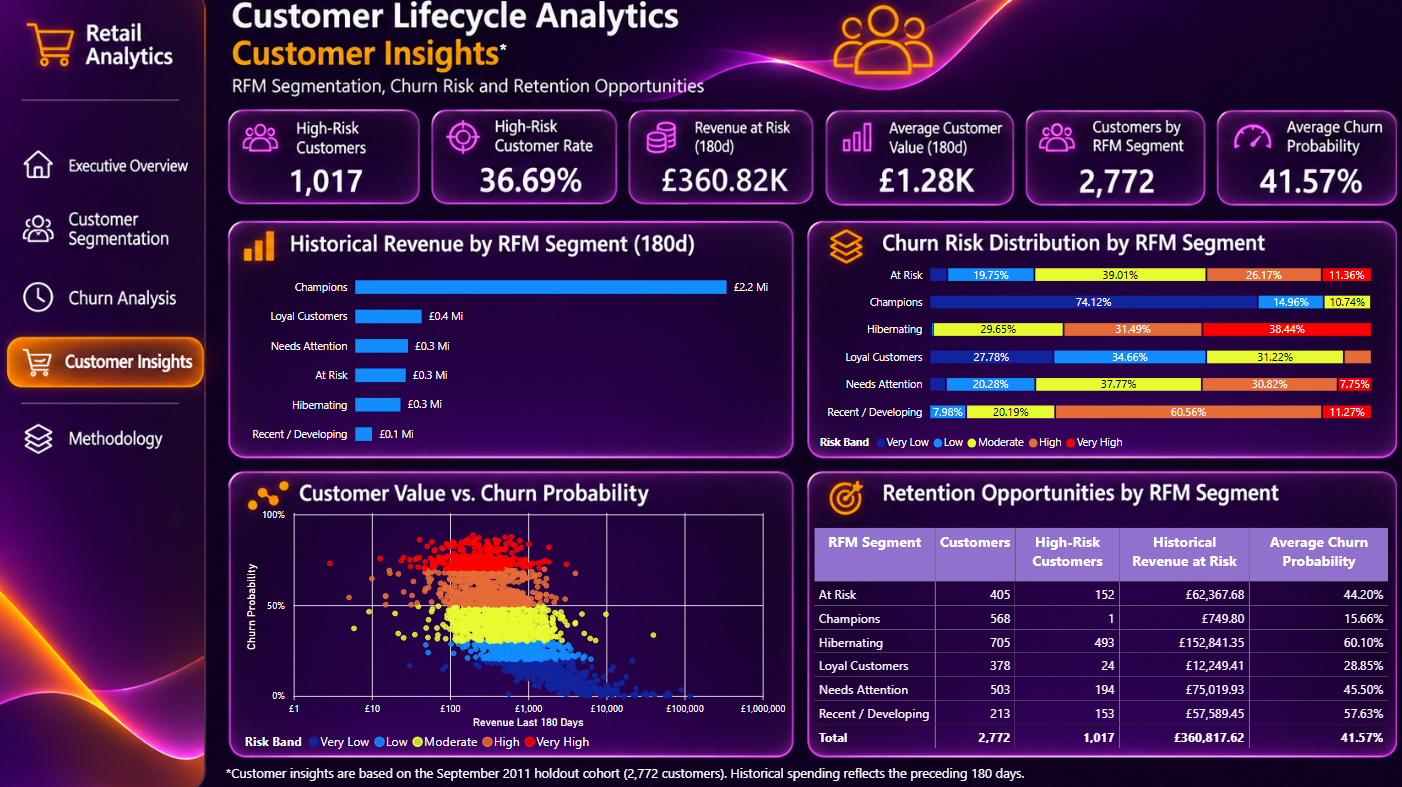

What the dashboard file says about the page in this screenshot:
{"tool":"powerbi","page":{"name":"Customer Insights","canvas":[1600,900],"ordinal":3},"visuals":[{"type":"barChart","fields":{"Category":["Customer Insights.rfm_segment"],"Y":["Sum(Customer Insights.monetary_180d)"]},"box":[265.2,287,637.9,248],"z":0},{"type":"hundredPercentStackedBarChart","fields":{"Category":["Customer Insights.rfm_segment"],"Series":["Customer Insights.risk_band"],"Y":["Average Churn Probability.Insights Customers by RFM Segment"]},"box":[917.1,274.5,656.7,262],"z":1000},{"type":"scatterChart","fields":{"Category":["Customer Insights.customer_id"],"Series":["Customer Insights.risk_band"],"X":["Avg(Customer Insights.monetary_180d)"],"Y":["Avg(Customer Insights.churn_probability)"]},"box":[265,565,645,311.7],"z":2000},{"type":"tableEx","fields":{"Values":["Customer Insights.rfm_segment","Average Churn Probability.Insights Customers by RFM Segment","Average Churn Probability.High-Risk Customers by Segment","Average Churn Probability.Historical Revenue at Risk by Segment","Average Churn Probability.Average Churn Probability"]},"box":[910,590,683.3,310],"z":3000},{"type":"textbox","box":[570,48.3,165,66.7],"z":4000},{"type":"textbox","box":[260,871,1331,29],"z":5000},{"type":"actionButton","box":[25.6,174.9,191.5,33.2],"z":5001},{"type":"actionButton","box":[25.6,242.8,176.4,42.2],"z":5002},{"type":"actionButton","box":[25.6,324.2,191.5,33.2],"z":5003},{"type":"actionButton","box":[22.6,484.1,179.5,33.2],"z":5004}]}

Visuals, with their boxes on the page's 1600x900 design canvas (x1, y1, x2, y2). These are canvas units, not pixel positions in the 1402x787 screenshot, which may show the page scaled, cropped or inside an application window:
barChart - Customer Insights.rfm_segment x Sum(Customer Insights.monetary_180d): [left=265, top=287, right=903, bottom=535]
hundredPercentStackedBarChart - Customer Insights.rfm_segment x Customer Insights.risk_band: [left=917, top=274, right=1574, bottom=536]
scatterChart - Customer Insights.customer_id x Customer Insights.risk_band: [left=265, top=565, right=910, bottom=877]
tableEx - Customer Insights.rfm_segment x Average Churn Probability.Insights Customers by RFM Segment: [left=910, top=590, right=1593, bottom=900]
textbox: [left=570, top=48, right=735, bottom=115]
textbox: [left=260, top=871, right=1591, bottom=900]
actionButton: [left=26, top=175, right=217, bottom=208]
actionButton: [left=26, top=243, right=202, bottom=285]
actionButton: [left=26, top=324, right=217, bottom=357]
actionButton: [left=23, top=484, right=202, bottom=517]
